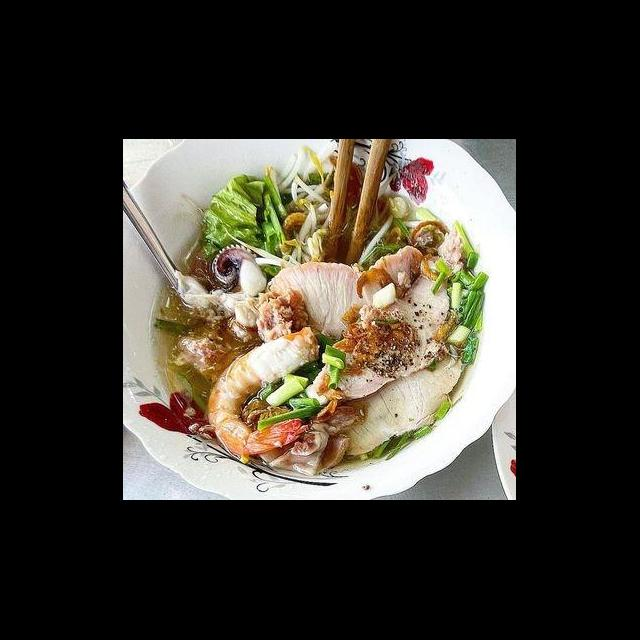muc: (170, 242, 272, 322)
thit bam: (253, 284, 314, 348)
thit heo: (314, 270, 454, 408), (256, 240, 430, 348), (328, 342, 468, 461)
tom: (204, 320, 328, 464)
